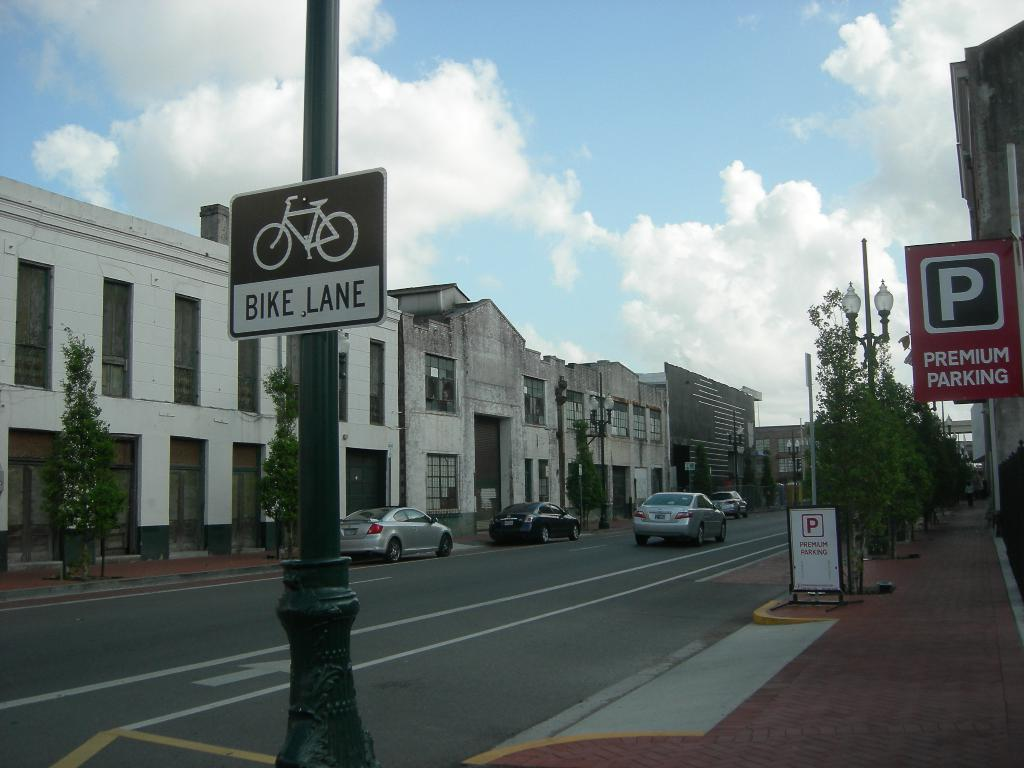cycle_route: (249, 189, 361, 276)
parking: (918, 249, 1006, 337), (798, 513, 828, 538)
